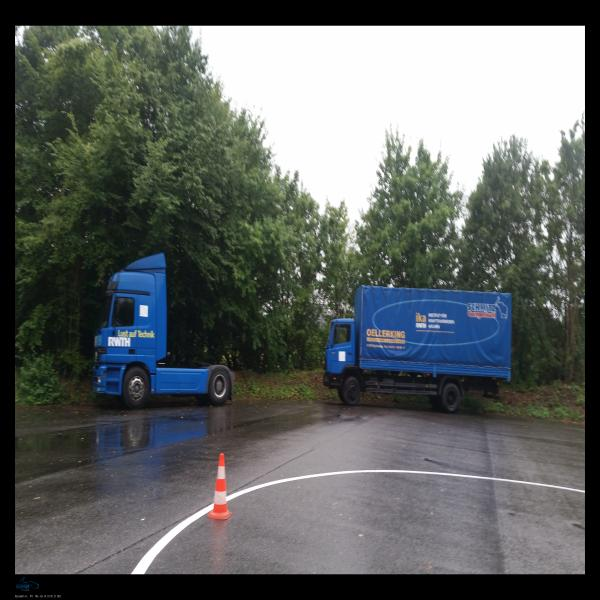large_orange_cone: (207, 453, 233, 520)
